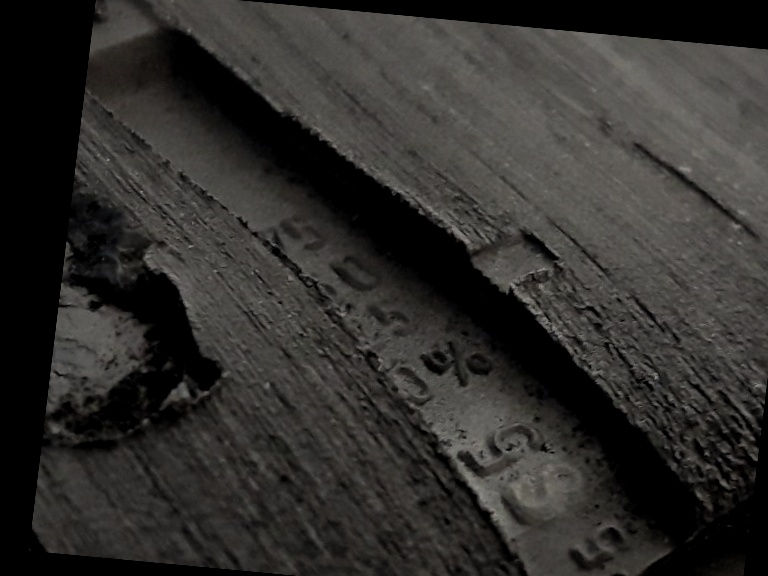temoin:0: (428, 193, 578, 328)
